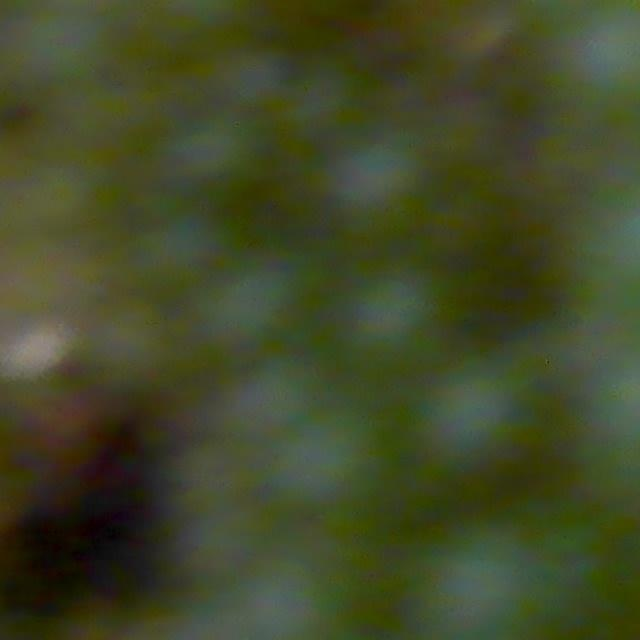SeaGrape: (415, 519, 595, 640), (418, 515, 540, 637), (418, 353, 533, 468), (278, 401, 387, 508), (343, 266, 444, 362), (201, 255, 300, 347), (330, 130, 426, 224), (172, 106, 260, 191), (237, 349, 322, 432)
